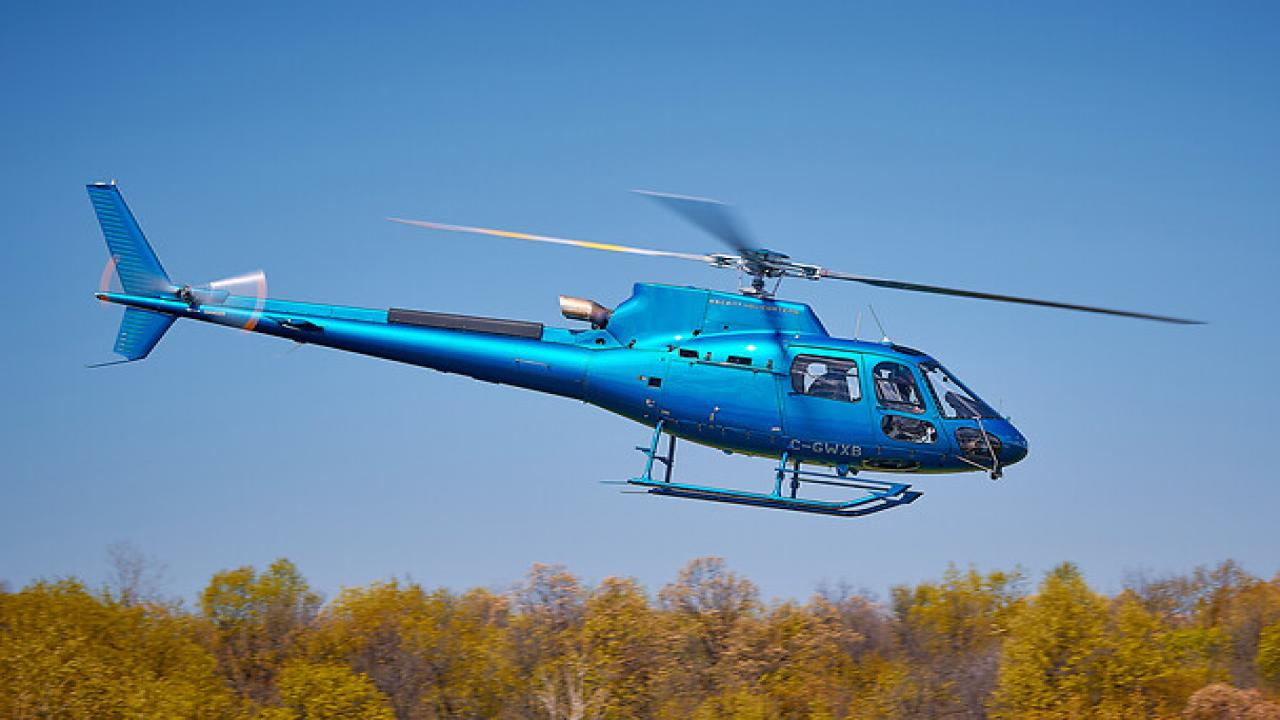Helicopter: (64, 153, 1221, 534)
